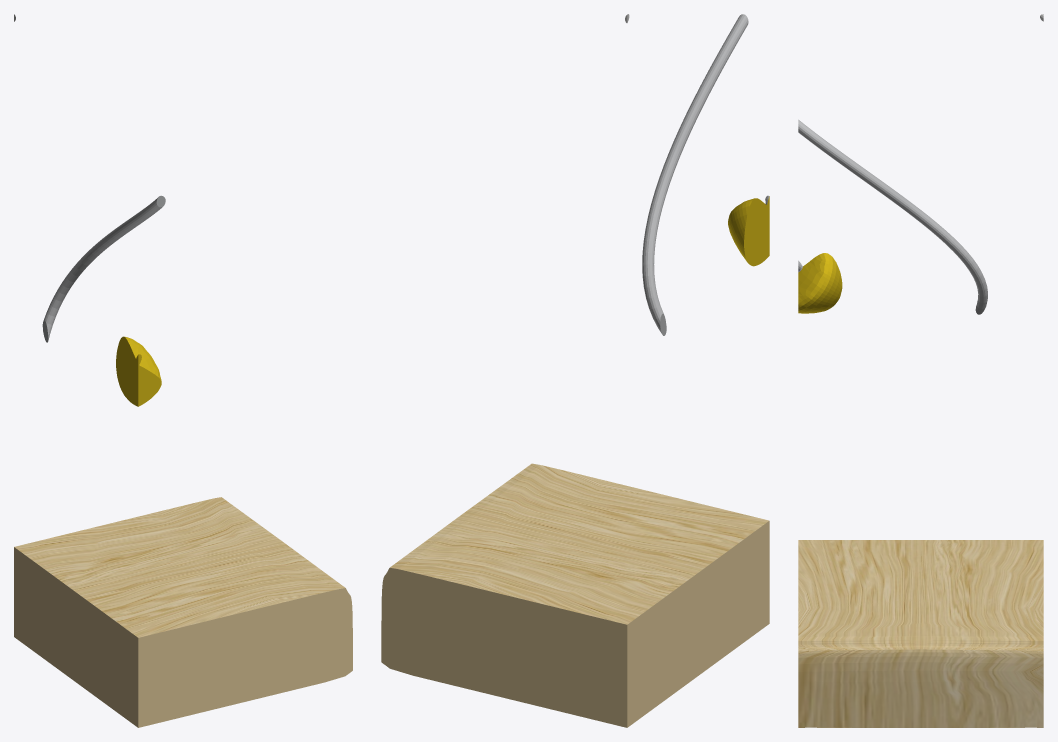
Rendered from 5_Motorikschleife subdiv.fbx.
3 renders of one model, left to right at view 1: azimuth 30°, elevation 25°; view 2: azimuth 150°, elevation 25°; view 3: azimuth 270°, elevation 25°, orthographic. The views are drawn at different scales.
Parts seen in each view (by area): view 1: Cube.003; view 2: Cube.003; view 3: Cube.003.
Boxes of the visible parts, x1,y1,x2,y2 form: Cube.003: (14,14,352,727); Cube.003: (381,14,769,727); Cube.003: (798,14,1043,727).
Bounding box in the file's own units: 499 × 1383 × 500.
